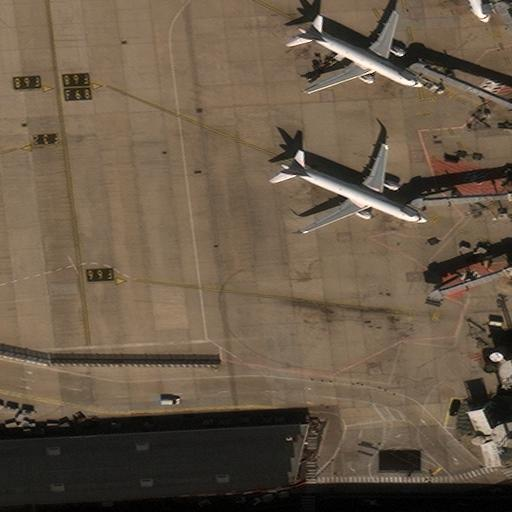Medium Civil Transport: (280, 144, 426, 233), (297, 14, 421, 93)
